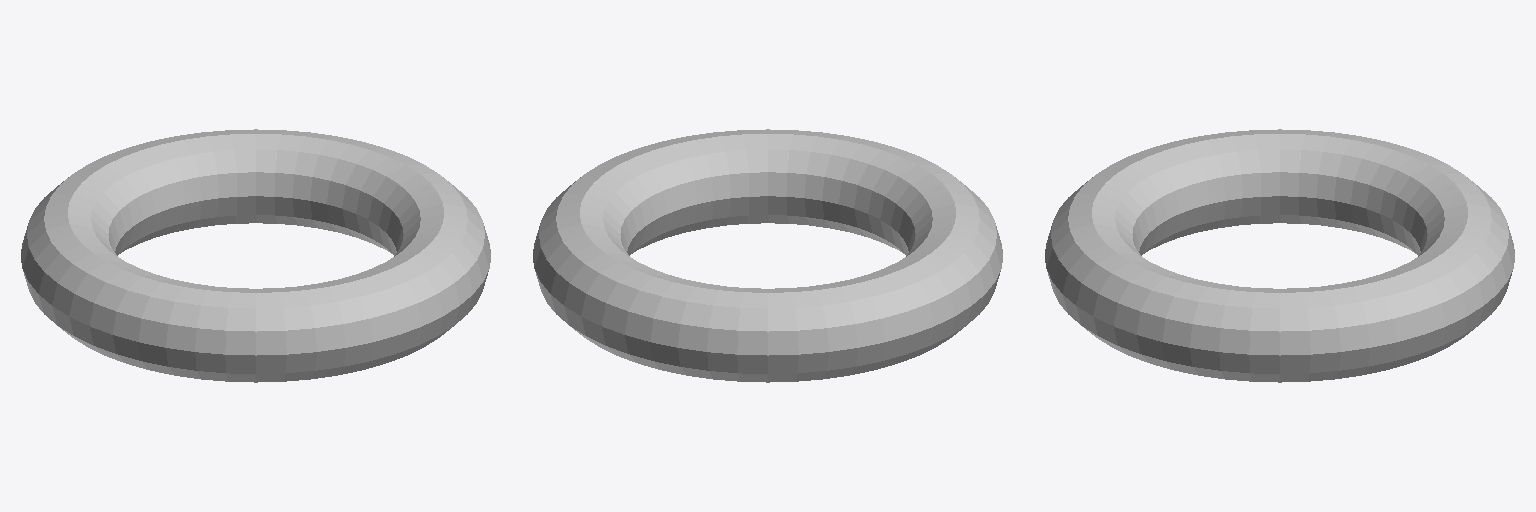
Rendered from Donut.obj.
The picture shows the model from 3 angles: view 1: azimuth 30°, elevation 25°; view 2: azimuth 150°, elevation 25°; view 3: azimuth 270°, elevation 25°; orthographic projection.
Parts seen in each view (by area): view 1: Torus; view 2: Torus; view 3: Torus.
Boxes of the visible parts, <box> form: Torus: <box>21,129,490,382</box>; Torus: <box>533,129,1002,382</box>; Torus: <box>1045,129,1514,382</box>.
Size of the model in its own units: 0.8912 by 0.1782 by 0.8912.